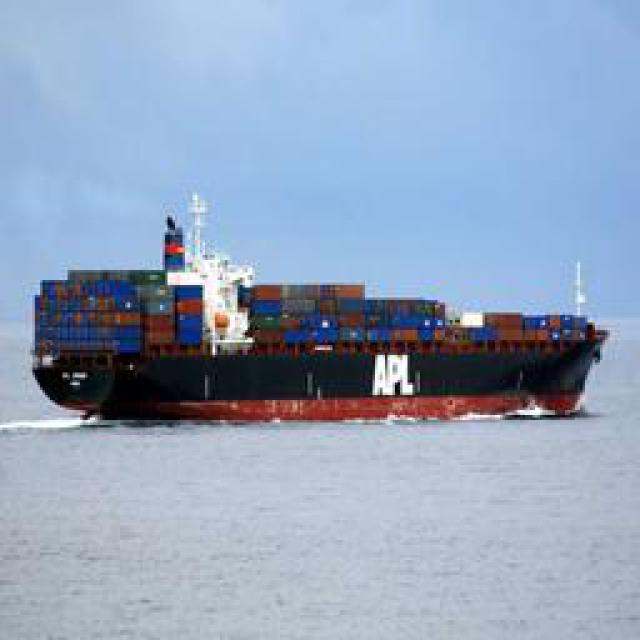Ship: (21, 257, 619, 417)
